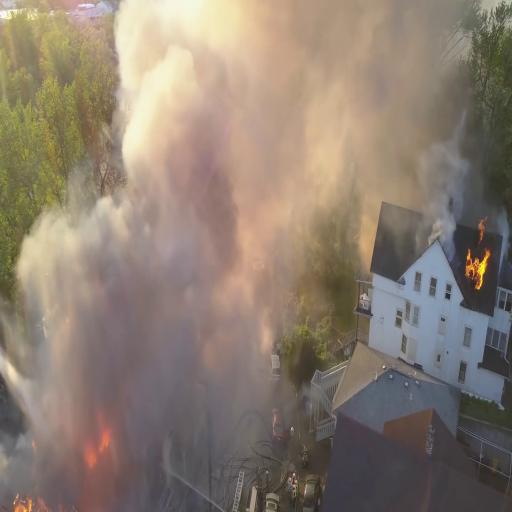fire: (465, 217, 490, 288)
smoke: (157, 6, 411, 167), (108, 203, 191, 443)
